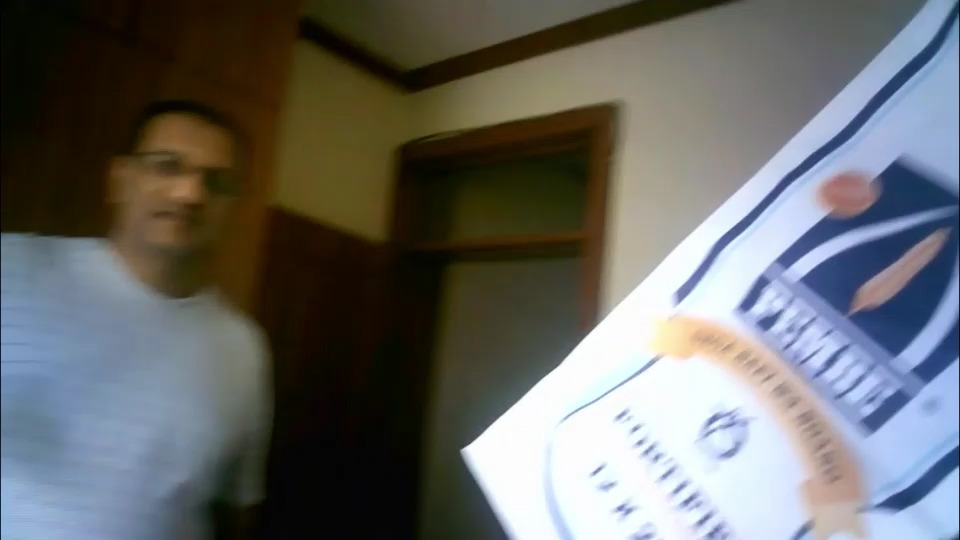wheat_flour_blue_label: (453, 2, 959, 533)
